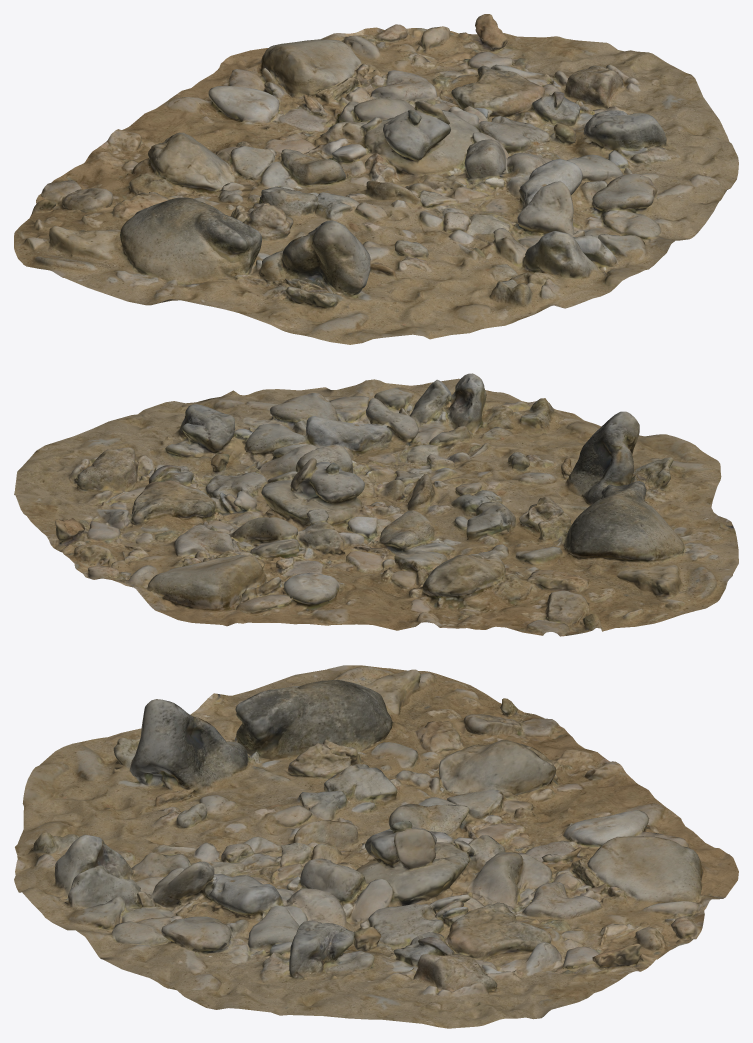
The model's file is sand_rocks_small_01.glb.
The picture shows the model from 3 angles, top to bottom: view 1: azimuth 30°, elevation 25°; view 2: azimuth 150°, elevation 25°; view 3: azimuth 270°, elevation 25°; orthographic projection. The views are drawn at different scales.
Visible parts, largest first — view 1: sand_rocks_small_01_LOD0; view 2: sand_rocks_small_01_LOD0; view 3: sand_rocks_small_01_LOD0.
Part boxes in pixels (x1,y1,x2,y2): sand_rocks_small_01_LOD0: [14, 14, 738, 344]; sand_rocks_small_01_LOD0: [14, 373, 738, 636]; sand_rocks_small_01_LOD0: [14, 665, 738, 1028].
Size of the model in its own units: 4.63 by 0.5349 by 3.88.
1 material, 1 textured.
